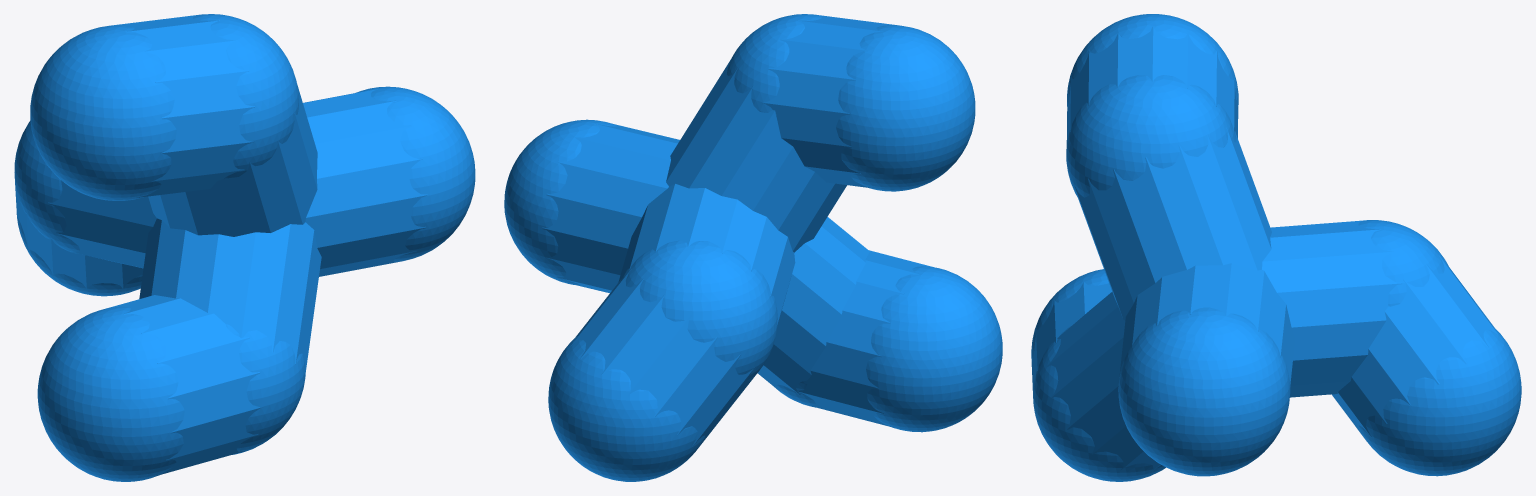
File: 1004-sticks-print_mr_NIH3D.glb
3 views of the same model, side by side, from view 1: azimuth 30°, elevation 25°; view 2: azimuth 150°, elevation 25°; view 3: azimuth 270°, elevation 25° (orthographic). The views are drawn at different scales.
Parts seen in each view (by area): view 1: 1004-sticks-print_NIH3D_mr; view 2: 1004-sticks-print_NIH3D_mr; view 3: 1004-sticks-print_NIH3D_mr.
Part boxes in pixels (box(x1,y1,x2,y2)): 1004-sticks-print_NIH3D_mr: box(14, 14, 475, 481); 1004-sticks-print_NIH3D_mr: box(504, 14, 1002, 481); 1004-sticks-print_NIH3D_mr: box(1031, 14, 1521, 481).
Bounding box in the file's own units: 4.82 × 4.26 × 4.56.
